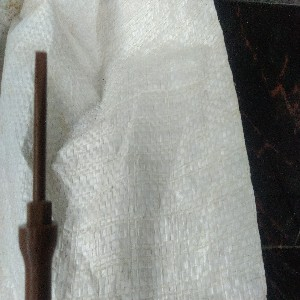obeng: (18, 50, 59, 300)
